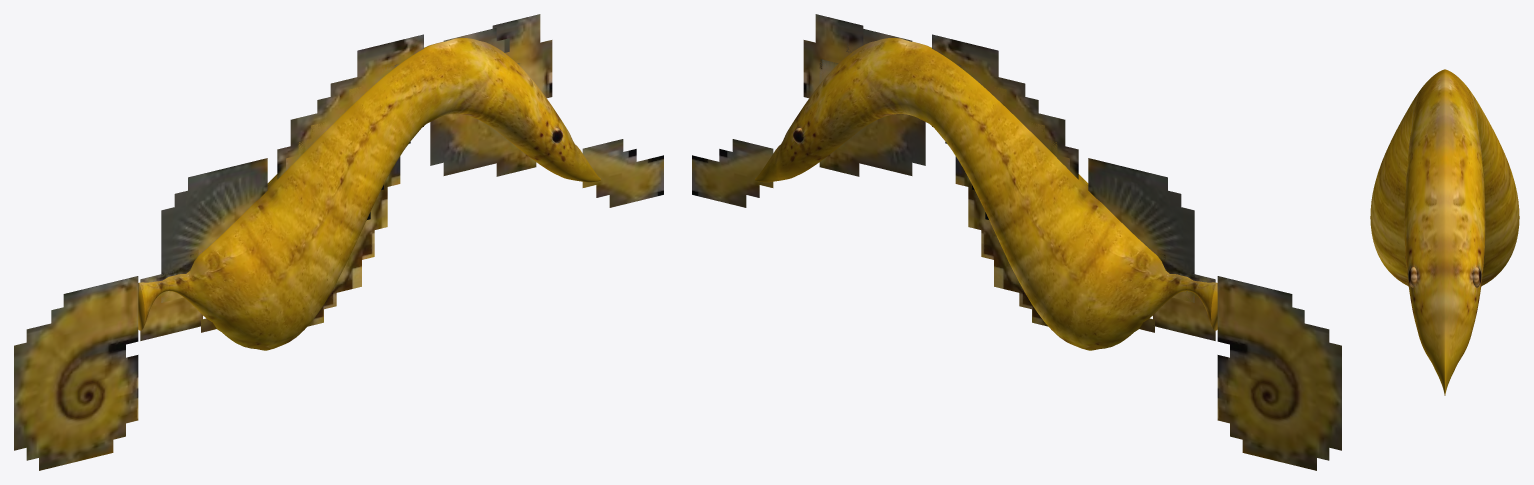
File: real-hippocampus_kuda.glb
The picture shows the model from 3 angles, left to right: view 1: azimuth 30°, elevation 25°; view 2: azimuth 150°, elevation 25°; view 3: azimuth 270°, elevation 25°; orthographic projection. The views are drawn at different scales.
Visible parts, largest first — view 1: hippocampus_kuda; view 2: hippocampus_kuda; view 3: hippocampus_kuda.
Part boxes in pixels (x1=…): hippocampus_kuda: x1=14, y1=14, x2=663, y2=470; hippocampus_kuda: x1=692, y1=14, x2=1341, y2=470; hippocampus_kuda: x1=1370, y1=69, x2=1519, y2=395.
Size of the model in its own units: 0.3008 by 0.1516 by 0.0482.
1 material, 1 textured.
